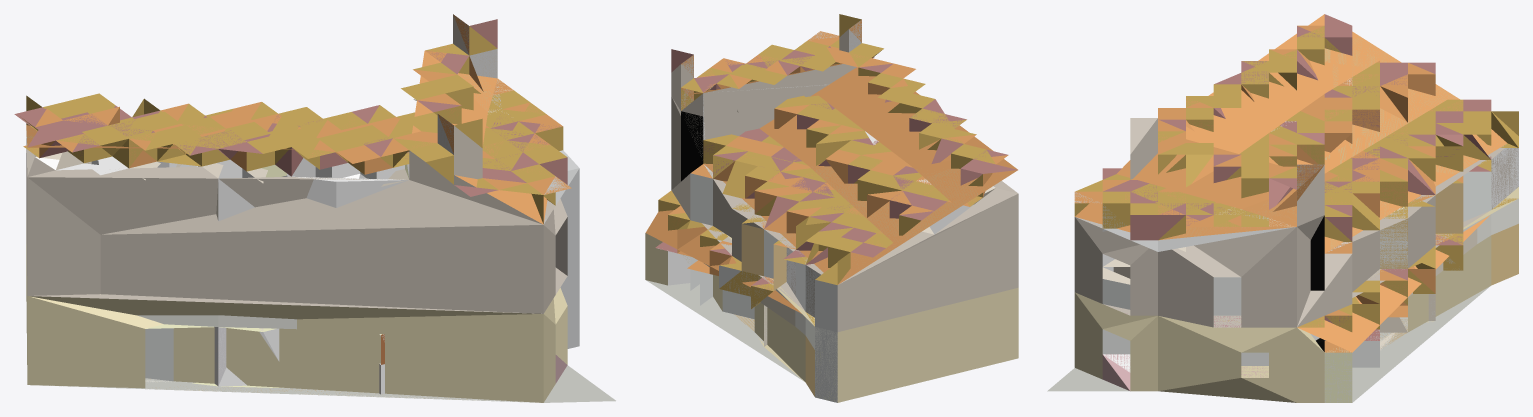
The model's file is refugio_con_fotogrametria_2022.glb.
3 views of the same model, side by side, from view 1: azimuth 30°, elevation 25°; view 2: azimuth 150°, elevation 25°; view 3: azimuth 270°, elevation 25° (orthographic). The views are drawn at different scales.
Parts seen in each view (by area): view 1: grupo_32, grupo_35, grupo_00, grupo_03, grupo_04, grupo_16, grupo_31, grupo_17, grupo_34, grupo_38, grupo_18, grupo_30 (+2 smaller); view 2: grupo_32, grupo_03, grupo_00, grupo_35, grupo_04, grupo_38, grupo_17, grupo_31, grupo_20, grupo_16, grupo_41, grupo_02 (+2 smaller); view 3: grupo_03, grupo_00, grupo_32, grupo_35, grupo_04, grupo_38, grupo_20, grupo_31, grupo_41, grupo_16, grupo_34, grupo_18 (+4 smaller).
Part boxes in pixels (x1,y1,x2,y2): grupo_32: (26, 14, 567, 313); grupo_35: (26, 213, 567, 402); grupo_00: (22, 26, 566, 223); grupo_03: (24, 14, 571, 224); grupo_04: (14, 19, 567, 196); grupo_16: (35, 156, 409, 394); grupo_31: (30, 365, 615, 402); grupo_17: (544, 150, 579, 348); grupo_34: (50, 315, 529, 402); grupo_38: (145, 328, 173, 381); grupo_18: (36, 80, 512, 384); grupo_30: (437, 49, 497, 154); grupo_32: (671, 23, 1018, 331); grupo_03: (645, 19, 1017, 313); grupo_00: (658, 14, 995, 326); grupo_35: (645, 233, 1018, 402); grupo_04: (655, 46, 1017, 290); grupo_38: (690, 173, 805, 319); grupo_17: (658, 31, 837, 402); grupo_31: (646, 280, 804, 381); grupo_20: (741, 224, 814, 396); grupo_16: (668, 84, 995, 317); grupo_41: (708, 90, 986, 331); grupo_02: (681, 111, 703, 181); grupo_03: (1074, 14, 1507, 352); grupo_00: (1074, 26, 1518, 331); grupo_32: (1074, 118, 1518, 327); grupo_35: (1074, 187, 1518, 402); grupo_04: (1102, 14, 1491, 340); grupo_38: (1102, 171, 1491, 367); grupo_20: (1380, 183, 1518, 285); grupo_31: (1047, 286, 1490, 402); grupo_41: (1164, 36, 1497, 344); grupo_16: (1102, 78, 1518, 372); grupo_34: (1324, 198, 1518, 402); grupo_18: (1102, 177, 1477, 350).
Size of what is drawn, in the model's own units: 16 by 9 by 17.
